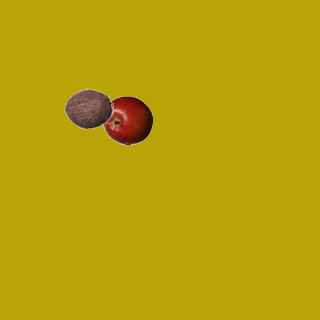Apple Braeburn: (102, 95, 152, 145)
Cocos: (63, 83, 113, 133)
